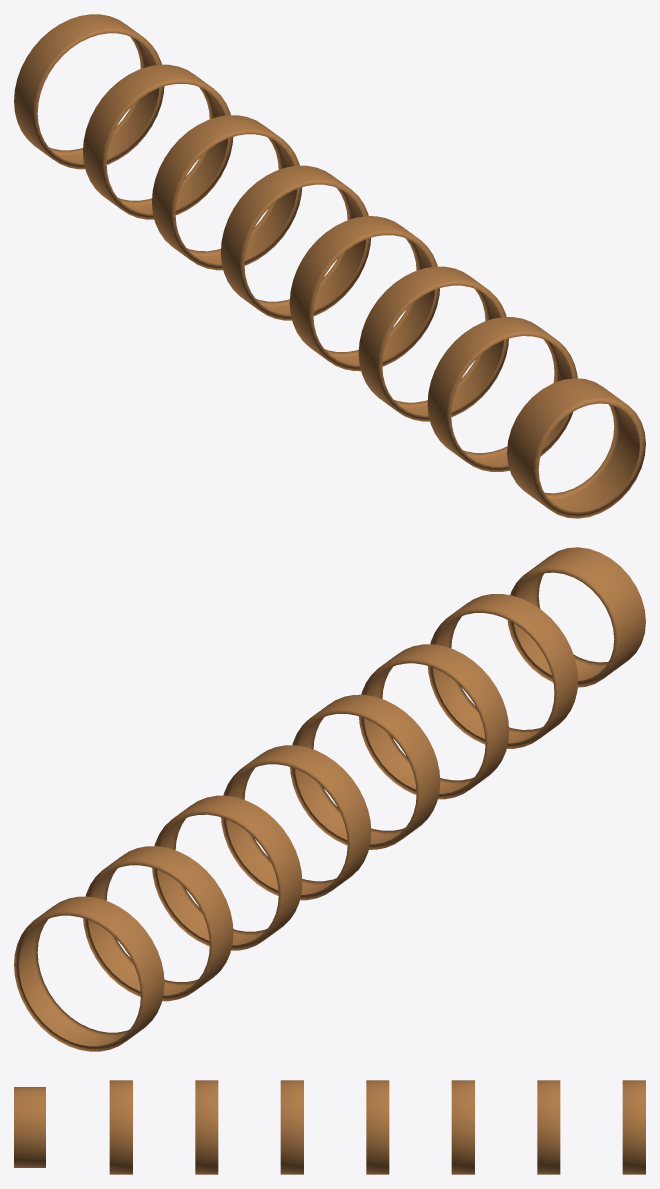
Rendered from main-bearings.glb.
3 views of the same model, one above another, from view 1: azimuth 30°, elevation 25°; view 2: azimuth 150°, elevation 25°; view 3: azimuth 270°, elevation 25° (orthographic). The views are drawn at different scales.
Visible parts, largest first — view 1: main-bearings:bronze; view 2: main-bearings:bronze; view 3: main-bearings:bronze.
Part boxes in pixels (x1,y1,x2,y2): main-bearings:bronze: (14, 14, 645, 518); main-bearings:bronze: (14, 547, 645, 1051); main-bearings:bronze: (14, 1080, 645, 1174).
Size of the model in its own units: 65.2 by 65.2 by 436.
